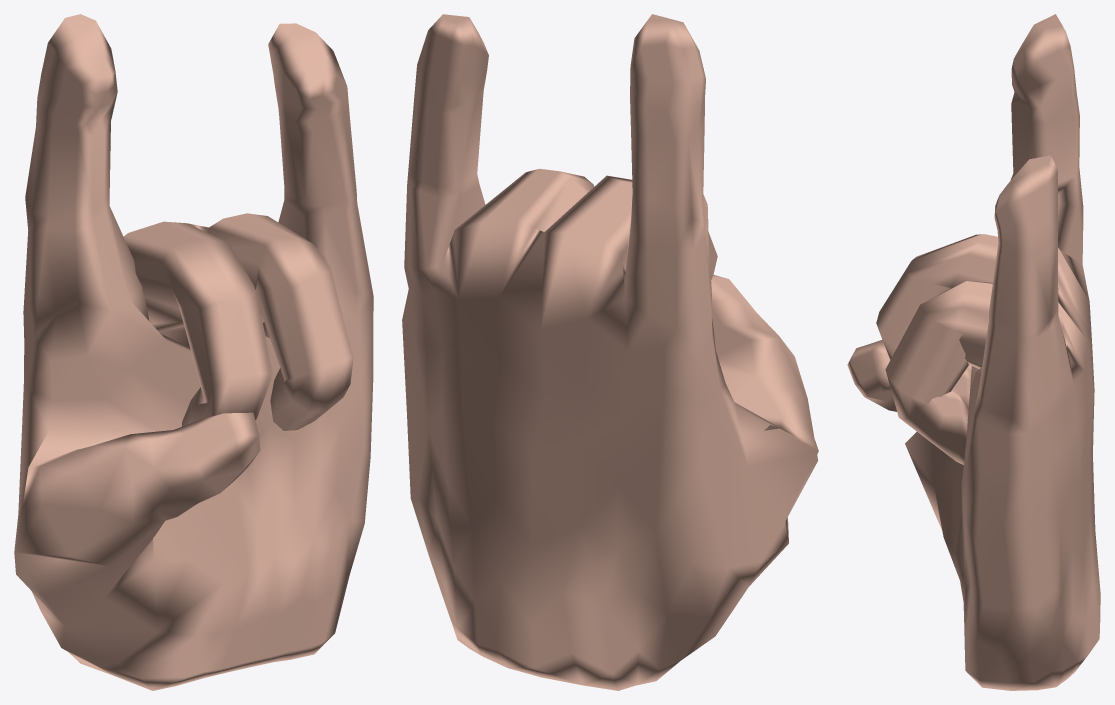
The model's file is MAO_BANHEIRO.obj.
3 views of the same model, side by side, from view 1: azimuth 30°, elevation 25°; view 2: azimuth 150°, elevation 25°; view 3: azimuth 270°, elevation 25° (orthographic). The views are drawn at different scales.
Parts seen in each view (by area): view 1: mao_dir polySurface1; view 2: mao_dir polySurface1; view 3: mao_dir polySurface1.
Boxes of the visible parts, bbox=[...] form: mao_dir polySurface1: bbox=[14, 14, 373, 690]; mao_dir polySurface1: bbox=[402, 14, 818, 690]; mao_dir polySurface1: bbox=[847, 14, 1100, 690].
Bounding box in the file's own units: 134 × 227 × 89.22.
